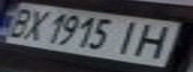1: (75, 13, 100, 51), (39, 10, 66, 45)
5: (90, 15, 121, 52)
9: (57, 12, 81, 47)
B: (0, 6, 39, 38)
H: (127, 21, 187, 61)
I: (109, 18, 154, 56)
X: (18, 7, 54, 42)
